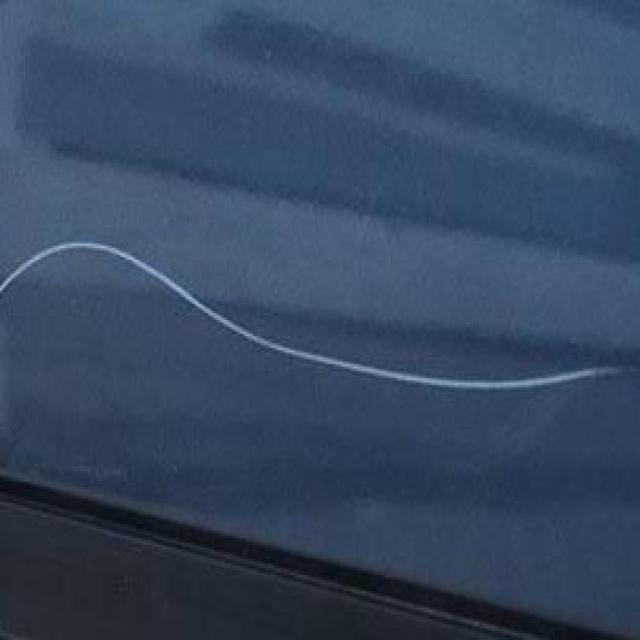scratch: (6, 233, 640, 400)
